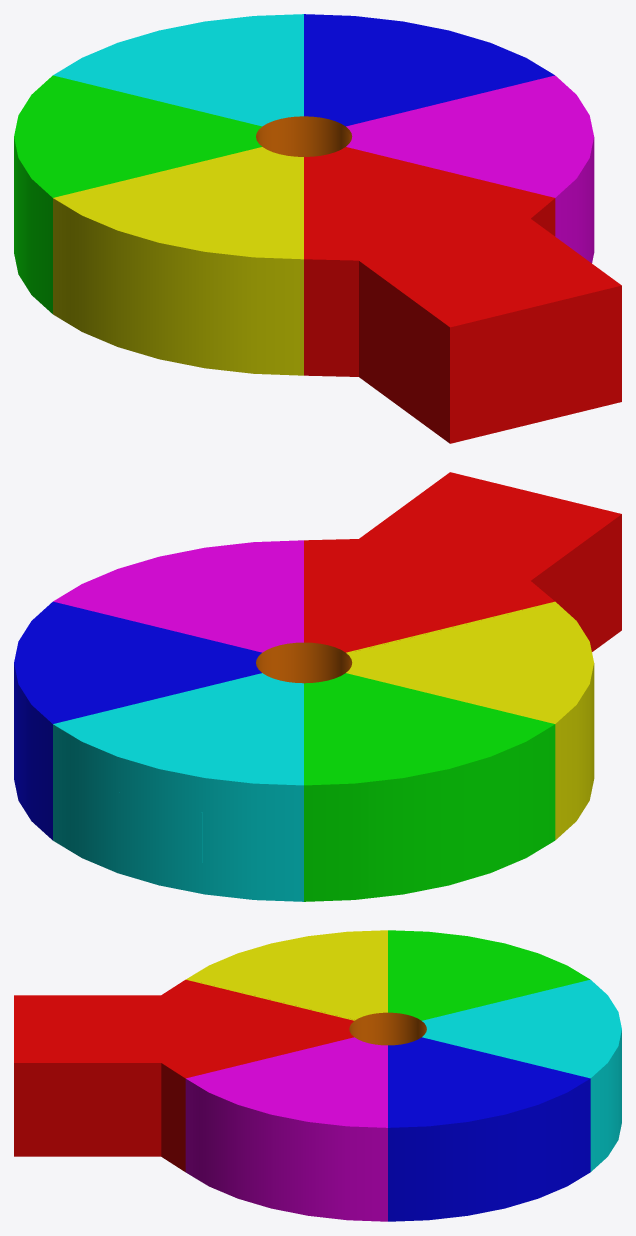
Rendered from Environment.fbx.
3 views of the same model, one above another, from view 1: azimuth 30°, elevation 25°; view 2: azimuth 150°, elevation 25°; view 3: azimuth 270°, elevation 25° (orthographic). The views are drawn at different scales.
Visible parts, largest first — view 1: Walls (×6), Glasses; view 2: Walls (×6), Glasses; view 3: Walls (×6), Glasses.
Boxes of the visible parts, bbox=[...] form: Walls (×6): bbox=[14, 14, 621, 443]; Glasses: bbox=[256, 116, 352, 156]; Walls (×6): bbox=[14, 472, 621, 901]; Glasses: bbox=[256, 642, 352, 683]; Walls (×6): bbox=[14, 930, 621, 1221]; Glasses: bbox=[349, 1012, 426, 1045].
Size of the model in its own units: 1806 by 410 by 2348.
